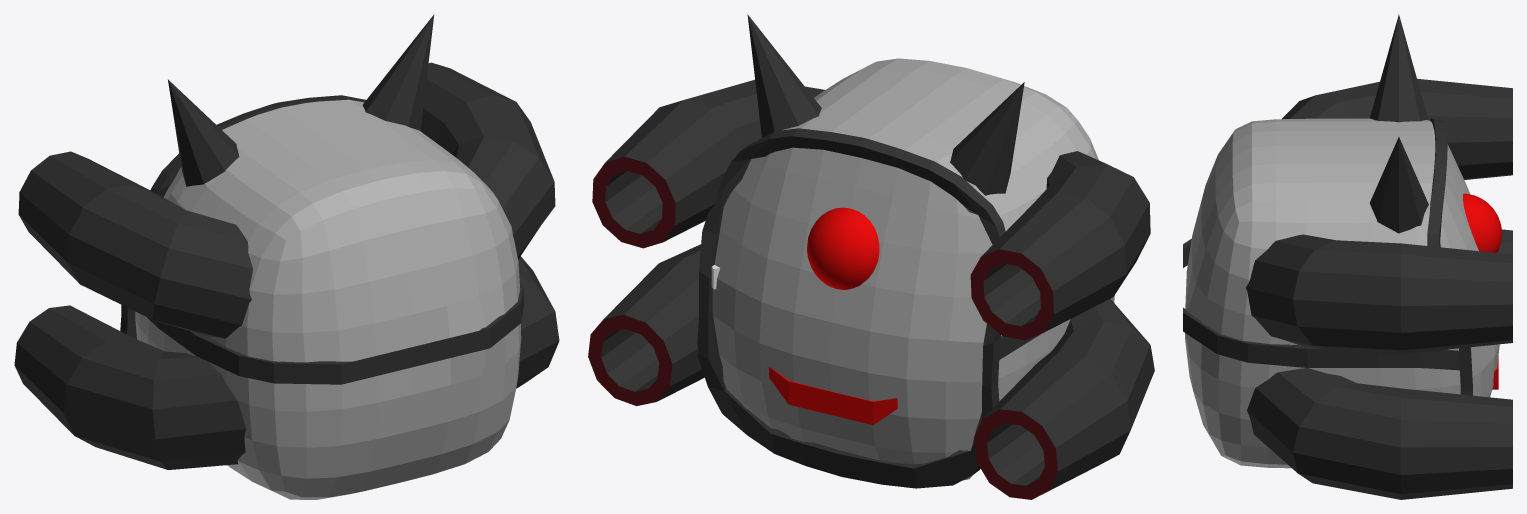
File: Enemy.fbx
3 renders of one model, left to right at view 1: azimuth 30°, elevation 25°; view 2: azimuth 150°, elevation 25°; view 3: azimuth 270°, elevation 25°, orthographic. The views are drawn at different scales.
Visible parts, largest first — view 1: Cube, Cylinder.001, Cylinder, Cube.002, Cone, Cube.004; view 2: Cube, Cylinder.001, Cylinder, Cube.004, Cone, Sphere, Cube.001; view 3: Cube, Cylinder.001, Cylinder, Cone, Cube.002, Cube.004, Sphere.
Boxes of the visible parts, x1,y1,x2,y2 form: Cube: [135, 99, 521, 499]; Cylinder.001: [18, 62, 555, 338]; Cylinder: [14, 256, 559, 469]; Cube.002: [147, 281, 523, 384]; Cone: [168, 14, 434, 186]; Cube.004: [120, 95, 365, 339]; Cube: [712, 58, 1114, 480]; Cylinder.001: [592, 79, 1150, 340]; Cylinder: [588, 244, 1154, 499]; Cube.004: [697, 128, 1005, 488]; Cone: [747, 14, 1024, 195]; Sphere: [807, 207, 879, 289]; Cube.001: [769, 367, 897, 425]; Cube: [1185, 118, 1499, 468]; Cylinder.001: [1246, 78, 1512, 354]; Cylinder: [1247, 229, 1512, 499]; Cone: [1369, 14, 1428, 233]; Cube.002: [1183, 239, 1459, 370]; Cube.004: [1427, 118, 1472, 395]; Sphere: [1463, 193, 1501, 252].
Bounding box in the file's own units: 323 × 249 × 207.
